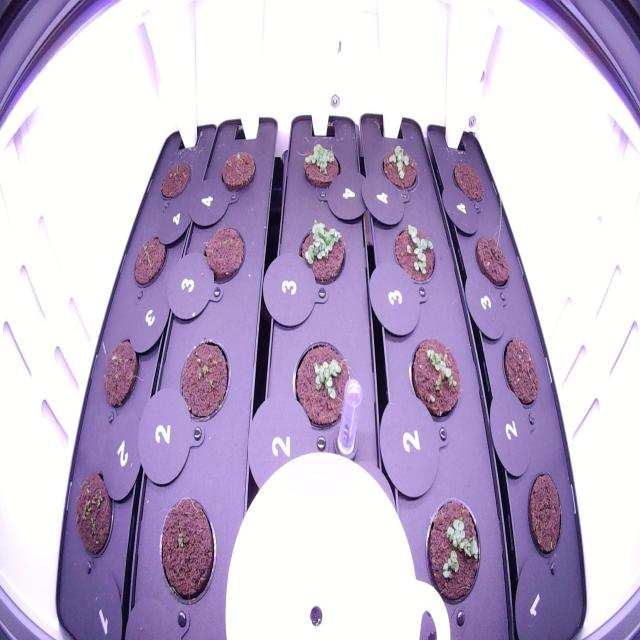germination: (154, 487, 218, 616), (418, 494, 487, 611), (288, 331, 358, 438), (405, 331, 465, 436), (175, 332, 234, 431), (70, 463, 119, 567), (294, 213, 348, 290), (388, 220, 440, 290), (375, 140, 423, 202), (298, 135, 345, 198), (128, 231, 172, 291)
pod: (520, 459, 566, 569), (96, 330, 144, 414), (497, 328, 543, 415), (195, 218, 248, 293), (470, 228, 512, 292), (214, 142, 260, 198), (449, 154, 487, 208), (156, 155, 194, 205)
